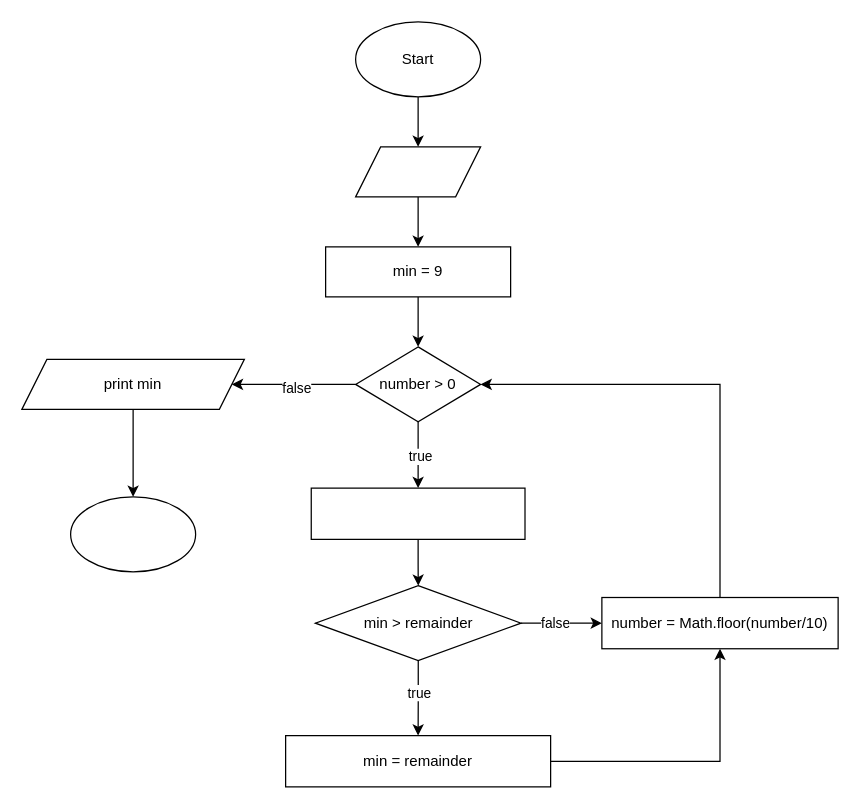
Some shapes in this 860 by 809 pixel diagram are drawn without their labels. The box of each missing label's shape, as (x1, y1, x2, y2) in pixels:
End: (69, 496, 196, 572)
Number: (354, 146, 481, 197)
remainder = number%10: (310, 487, 525, 539)
